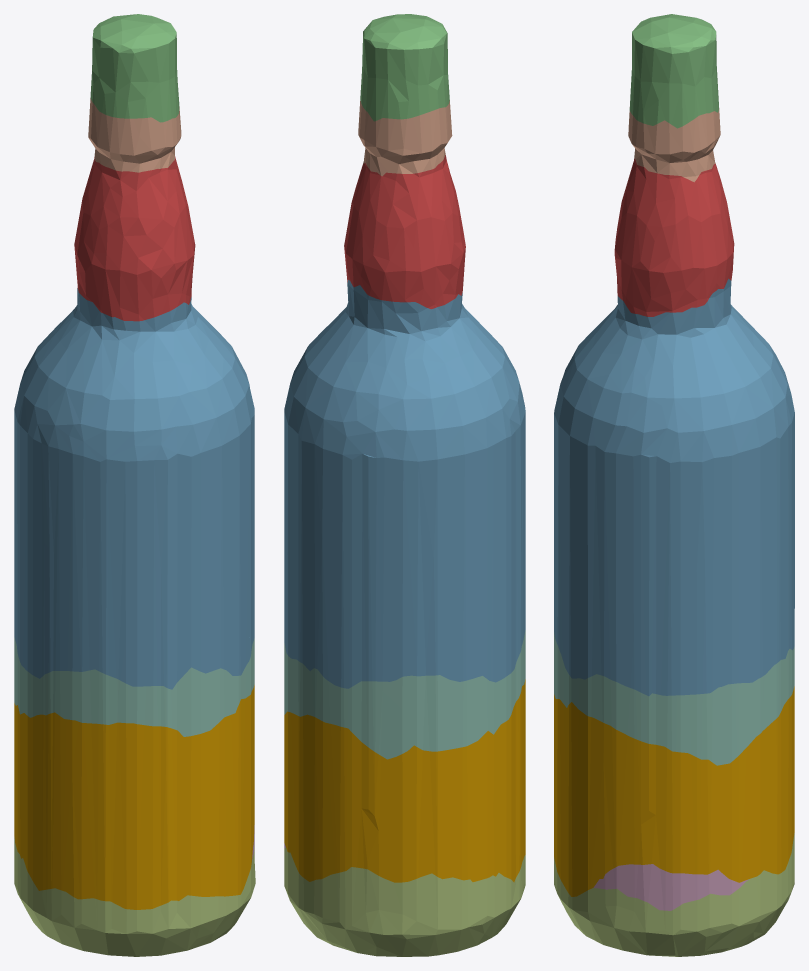
Rendered from fractured_60_8pcs.glb.
The picture shows the model from 3 angles, left to right: view 1: azimuth 30°, elevation 25°; view 2: azimuth 150°, elevation 25°; view 3: azimuth 270°, elevation 25°; orthographic projection.
Visible parts, largest first — view 1: piece_2.obj, piece_0.obj, piece_1.obj, piece_5.obj, piece_4.obj, piece_3.obj, piece_7.obj; view 2: piece_2.obj, piece_0.obj, piece_5.obj, piece_1.obj, piece_4.obj, piece_3.obj, piece_7.obj; view 3: piece_2.obj, piece_0.obj, piece_1.obj, piece_4.obj, piece_5.obj, piece_3.obj, piece_7.obj, piece_6.obj.
Part boxes in pixels (box(x1,y1,x2,y2)): piece_2.obj: box(14, 288, 254, 689); piece_0.obj: box(14, 685, 254, 909); piece_1.obj: box(74, 156, 195, 321); piece_5.obj: box(14, 837, 255, 956); piece_4.obj: box(14, 637, 254, 736); piece_3.obj: box(90, 14, 179, 122); piece_7.obj: box(88, 98, 181, 172); piece_2.obj: box(284, 280, 525, 688); piece_0.obj: box(284, 679, 525, 882); piece_5.obj: box(284, 848, 525, 956); piece_1.obj: box(344, 155, 465, 309); piece_4.obj: box(284, 630, 525, 759); piece_3.obj: box(360, 14, 449, 121); piece_7.obj: box(358, 100, 452, 176); piece_2.obj: box(554, 278, 794, 696); piece_0.obj: box(554, 686, 794, 896); piece_1.obj: box(614, 158, 734, 316); piece_4.obj: box(554, 632, 794, 765); piece_5.obj: box(554, 833, 794, 956); piece_3.obj: box(629, 14, 718, 128); piece_7.obj: box(628, 107, 720, 182); piece_6.obj: box(593, 864, 748, 910).
Bounding box in the file's own units: 0.242 × 1 × 0.2421.
